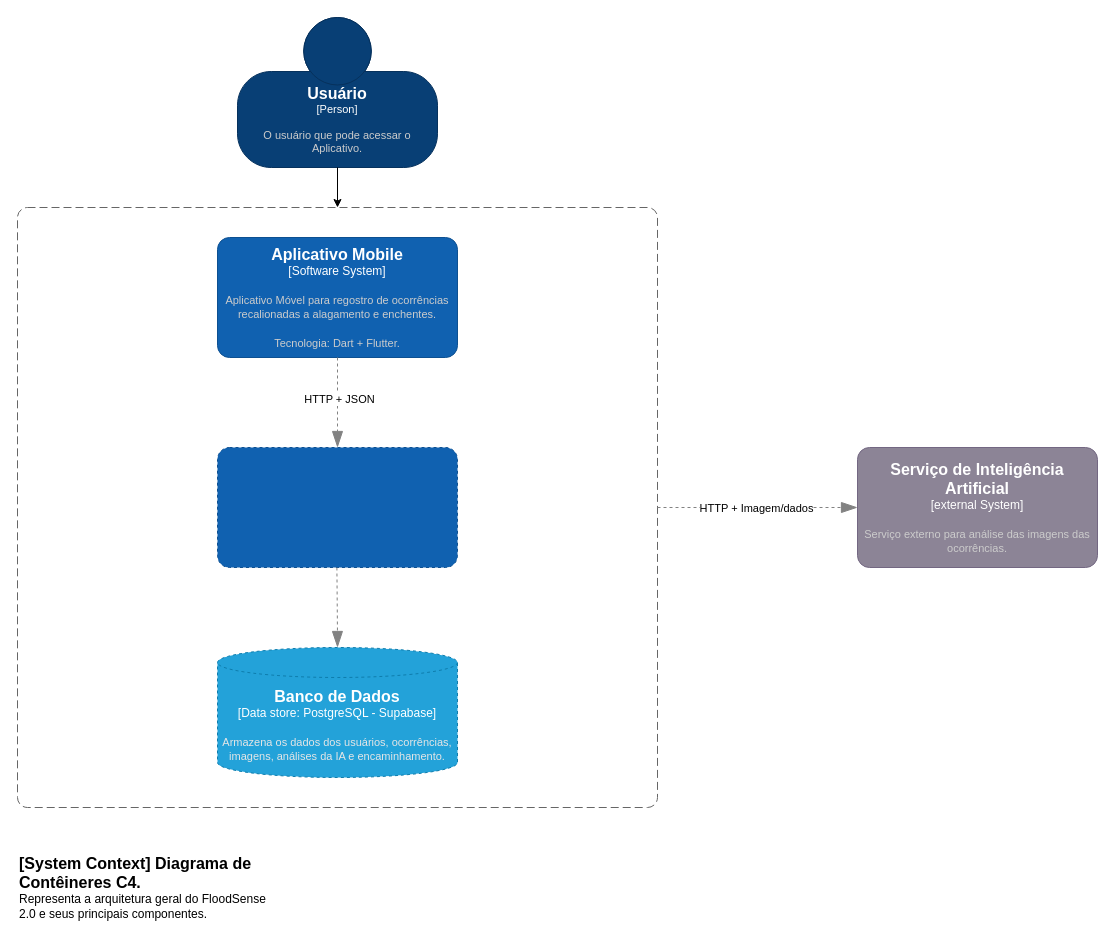
The diagram is 1115 pixels wide and 939 high, and some of its shapes have lost their labels. The box of each missing label's shape, as (x1, y1, x2, y2) in pixels:
Backend / API [Software System]: (216, 446, 458, 568)
floodSense 2.0 []: (16, 206, 658, 808)
